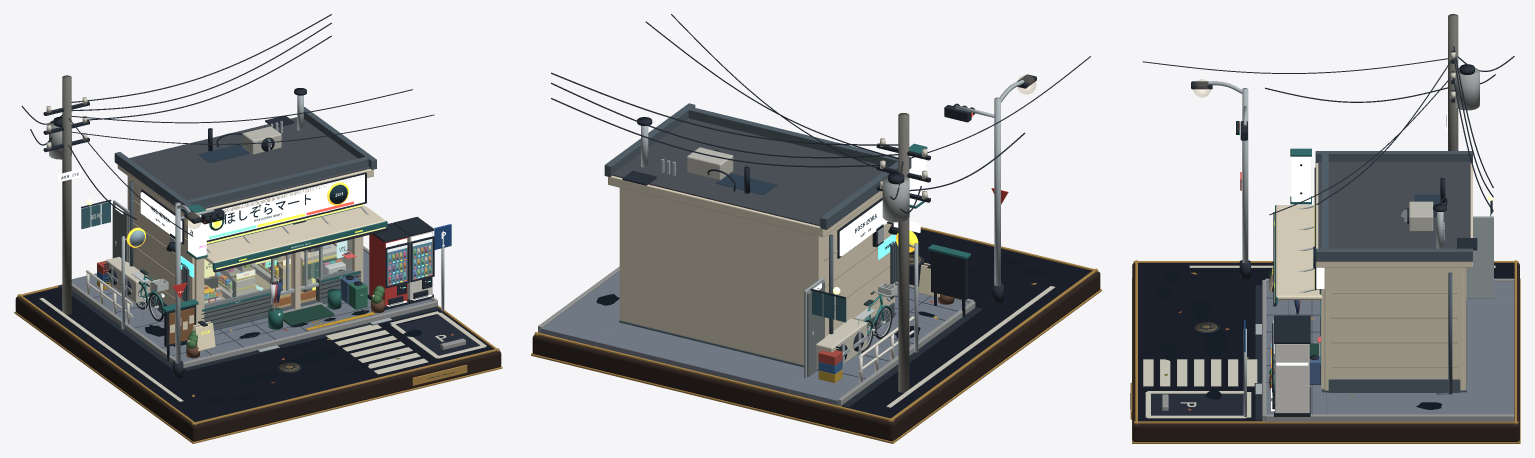
Rendered from rainy_konbini.glb.
3 renders of one model, left to right at view 1: azimuth 30°, elevation 25°; view 2: azimuth 150°, elevation 25°; view 3: azimuth 270°, elevation 25°, orthographic. The views are drawn at different scales.
Parts seen in each view (by area): view 1: SINGLE__Asphalt bed, MERGED__T__Store dark metal, MERGED__T__Store cream wall, SINGLE__Roof top slate, SINGLE__Plinth, MERGED__T__Store grey kick, MERGED__T__Sidewalk stone, MERGED__E__Sign white lit, MERGED__G__Glass cool, MERGED__T__Plinth brass, MERGED__P__Wet road paint, MERGED__T__Aluminium (+25 smaller); view 2: MERGED__T__Store cream wall, SINGLE__Roof top slate, MERGED__T__Sidewalk stone, SINGLE__Plinth, SINGLE__Asphalt bed, MERGED__T__Store dark metal, MERGED__T__Store grey kick, MERGED__T__Plinth brass, MERGED__T__Aluminium, SINGLE__Utility pole, MERGED__T__Concrete curb, MERGED__E__Sign white lit (+10 smaller); view 3: MERGED__T__Store cream wall, SINGLE__Asphalt bed, SINGLE__Roof top slate, MERGED__T__Sidewalk stone, SINGLE__Plinth, MERGED__T__Store grey kick, MERGED__T__Store dark metal, MERGED__T__Aluminium, MERGED__T__Plinth brass, MERGED__P__Wet road paint, MERGED__T__Concrete curb, SINGLE__vending body 1 (+8 smaller).
Boxes of the visible parts, <box> form: SINGLE__Asphalt bed: <box>23,287,493,421</box>; MERGED__T__Store dark metal: <box>21,14,440,378</box>; MERGED__T__Store cream wall: <box>117,165,385,324</box>; SINGLE__Roof top slate: <box>129,117,370,208</box>; SINGLE__Plinth: <box>15,296,501,441</box>; MERGED__T__Store grey kick: <box>114,107,376,330</box>; MERGED__T__Sidewalk stone: <box>71,250,432,361</box>; MERGED__E__Sign white lit: <box>58,169,445,315</box>; MERGED__G__Glass cool: <box>204,239,432,304</box>; MERGED__T__Plinth brass: <box>14,284,502,443</box>; MERGED__P__Wet road paint: <box>39,298,486,401</box>; MERGED__T__Aluminium: <box>107,95,444,363</box>; MERGED__T__Store cream wall: <box>608,175,894,364</box>; SINGLE__Roof top slate: <box>612,118,888,226</box>; MERGED__T__Sidewalk stone: <box>541,271,969,405</box>; SINGLE__Plinth: <box>532,271,1100,441</box>; SINGLE__Asphalt bed: <box>842,229,1091,418</box>; MERGED__T__Store dark metal: <box>551,14,1090,407</box>; MERGED__T__Store grey kick: <box>604,103,911,370</box>; MERGED__T__Plinth brass: <box>531,227,1101,443</box>; MERGED__T__Aluminium: <box>641,79,1024,378</box>; SINGLE__Utility pole: <box>898,113,909,392</box>; MERGED__T__Concrete curb: <box>538,266,975,406</box>; MERGED__E__Sign white lit: <box>813,200,920,290</box>; MERGED__T__Store cream wall: <box>1276,163,1472,390</box>; SINGLE__Asphalt bed: <box>1138,263,1514,421</box>; SINGLE__Roof top slate: <box>1318,161,1470,248</box>; MERGED__T__Sidewalk stone: <box>1266,281,1514,414</box>; SINGLE__Plinth: <box>1132,263,1519,441</box>; MERGED__T__Store grey kick: <box>1315,151,1472,394</box>; MERGED__T__Store dark metal: <box>1142,46,1514,420</box>; MERGED__T__Aluminium: <box>1208,81,1493,416</box>; MERGED__T__Plinth brass: <box>1130,260,1520,443</box>; MERGED__P__Wet road paint: <box>1143,265,1495,418</box>; MERGED__T__Concrete curb: <box>1162,278,1514,421</box>; SINGLE__vending body 1: <box>1275,344,1309,412</box>.
Size of the model in its own units: 8.3 by 6.46 by 8.29.
